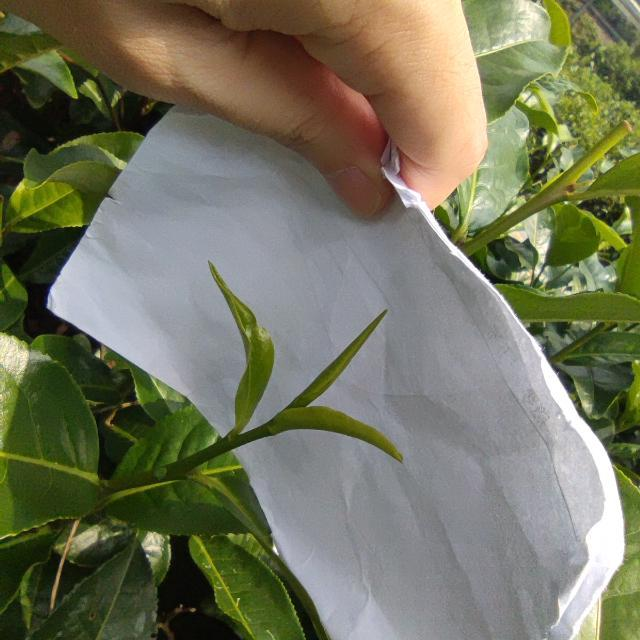Stem: (237, 424, 271, 445)
